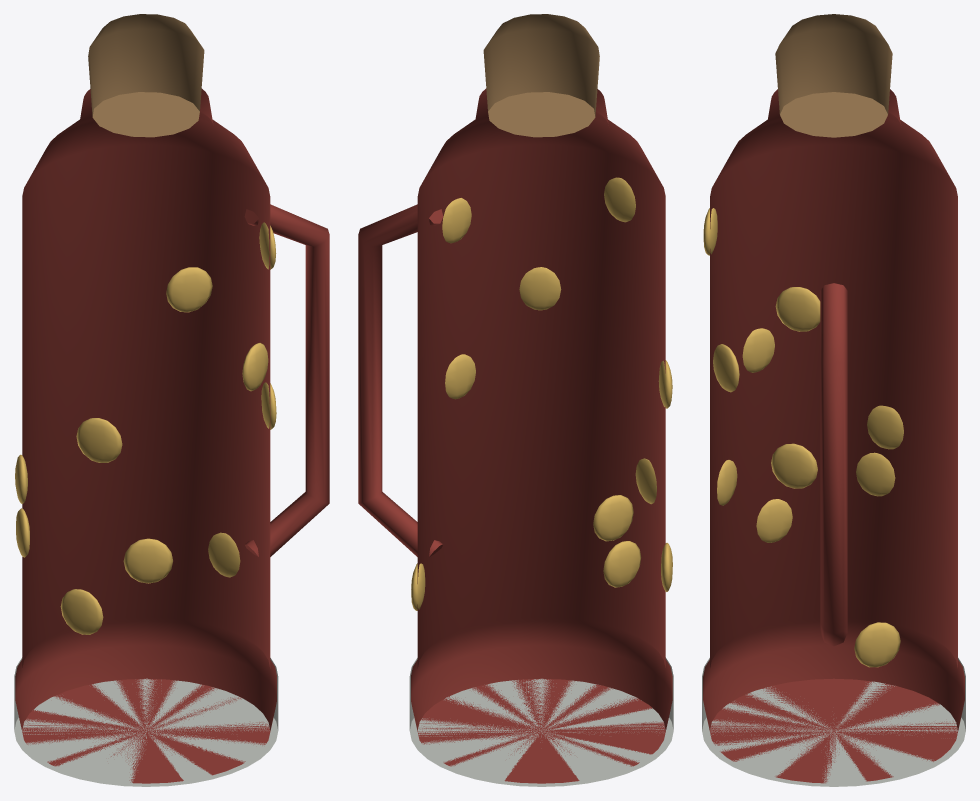
The model's file is PhichHoa.glb.
3 views of the same model, side by side, from view 1: azimuth 30°, elevation 25°; view 2: azimuth 150°, elevation 25°; view 3: azimuth 270°, elevation 25° (orthographic).
Parts seen in each view (by area): view 1: geometry_0; view 2: geometry_0; view 3: geometry_0.
Part boxes in pixels (bbox=[...]): geometry_0: bbox=[14, 14, 329, 786]; geometry_0: bbox=[358, 14, 673, 786]; geometry_0: bbox=[702, 14, 965, 786].
Bounding box in the file's own units: 0.1515 × 0.3435 × 0.117.
